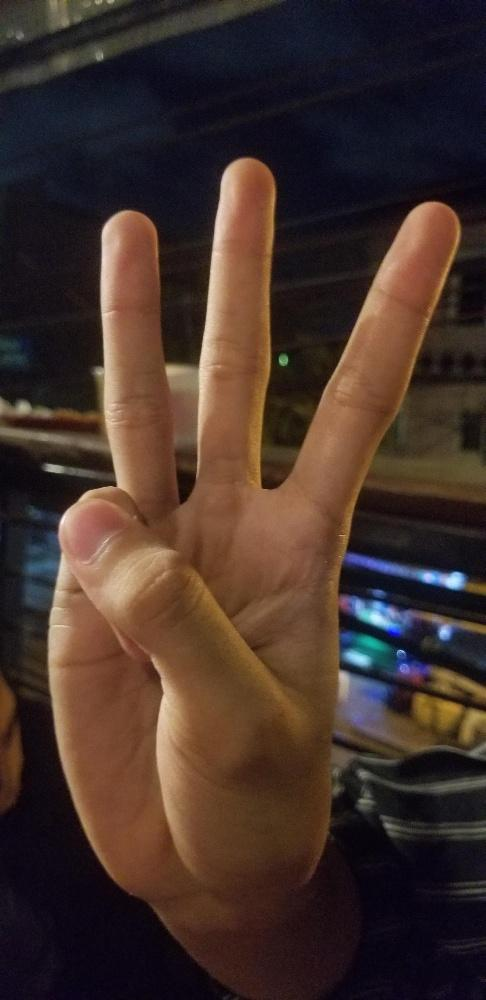w: (42, 153, 461, 906)
